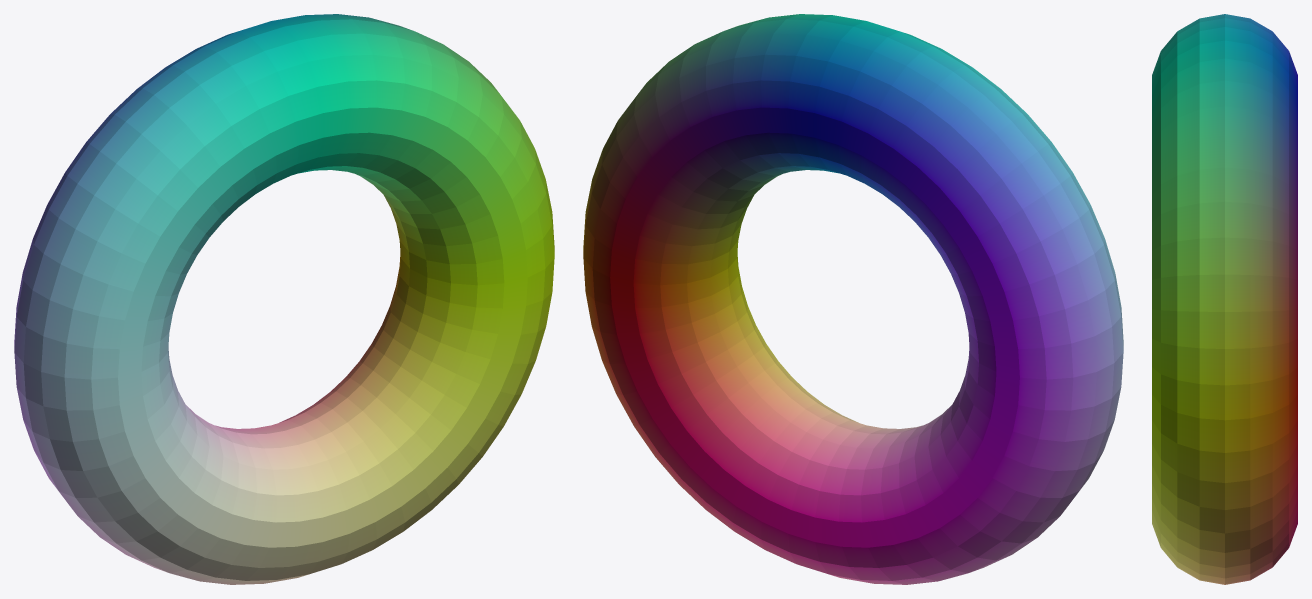
3 views of the same model, side by side, from view 1: azimuth 30°, elevation 25°; view 2: azimuth 150°, elevation 25°; view 3: azimuth 270°, elevation 25° (orthographic). The views are drawn at different scales.
Visible parts, largest first — view 1: geometry_0; view 2: geometry_0; view 3: geometry_0.
Part boxes in pixels (<box>): geometry_0: <box>14,14,554,584</box>; geometry_0: <box>583,14,1123,584</box>; geometry_0: <box>1152,14,1297,584</box>.
Size of the model in its own units: 2.7 by 2.7 by 0.6894.
